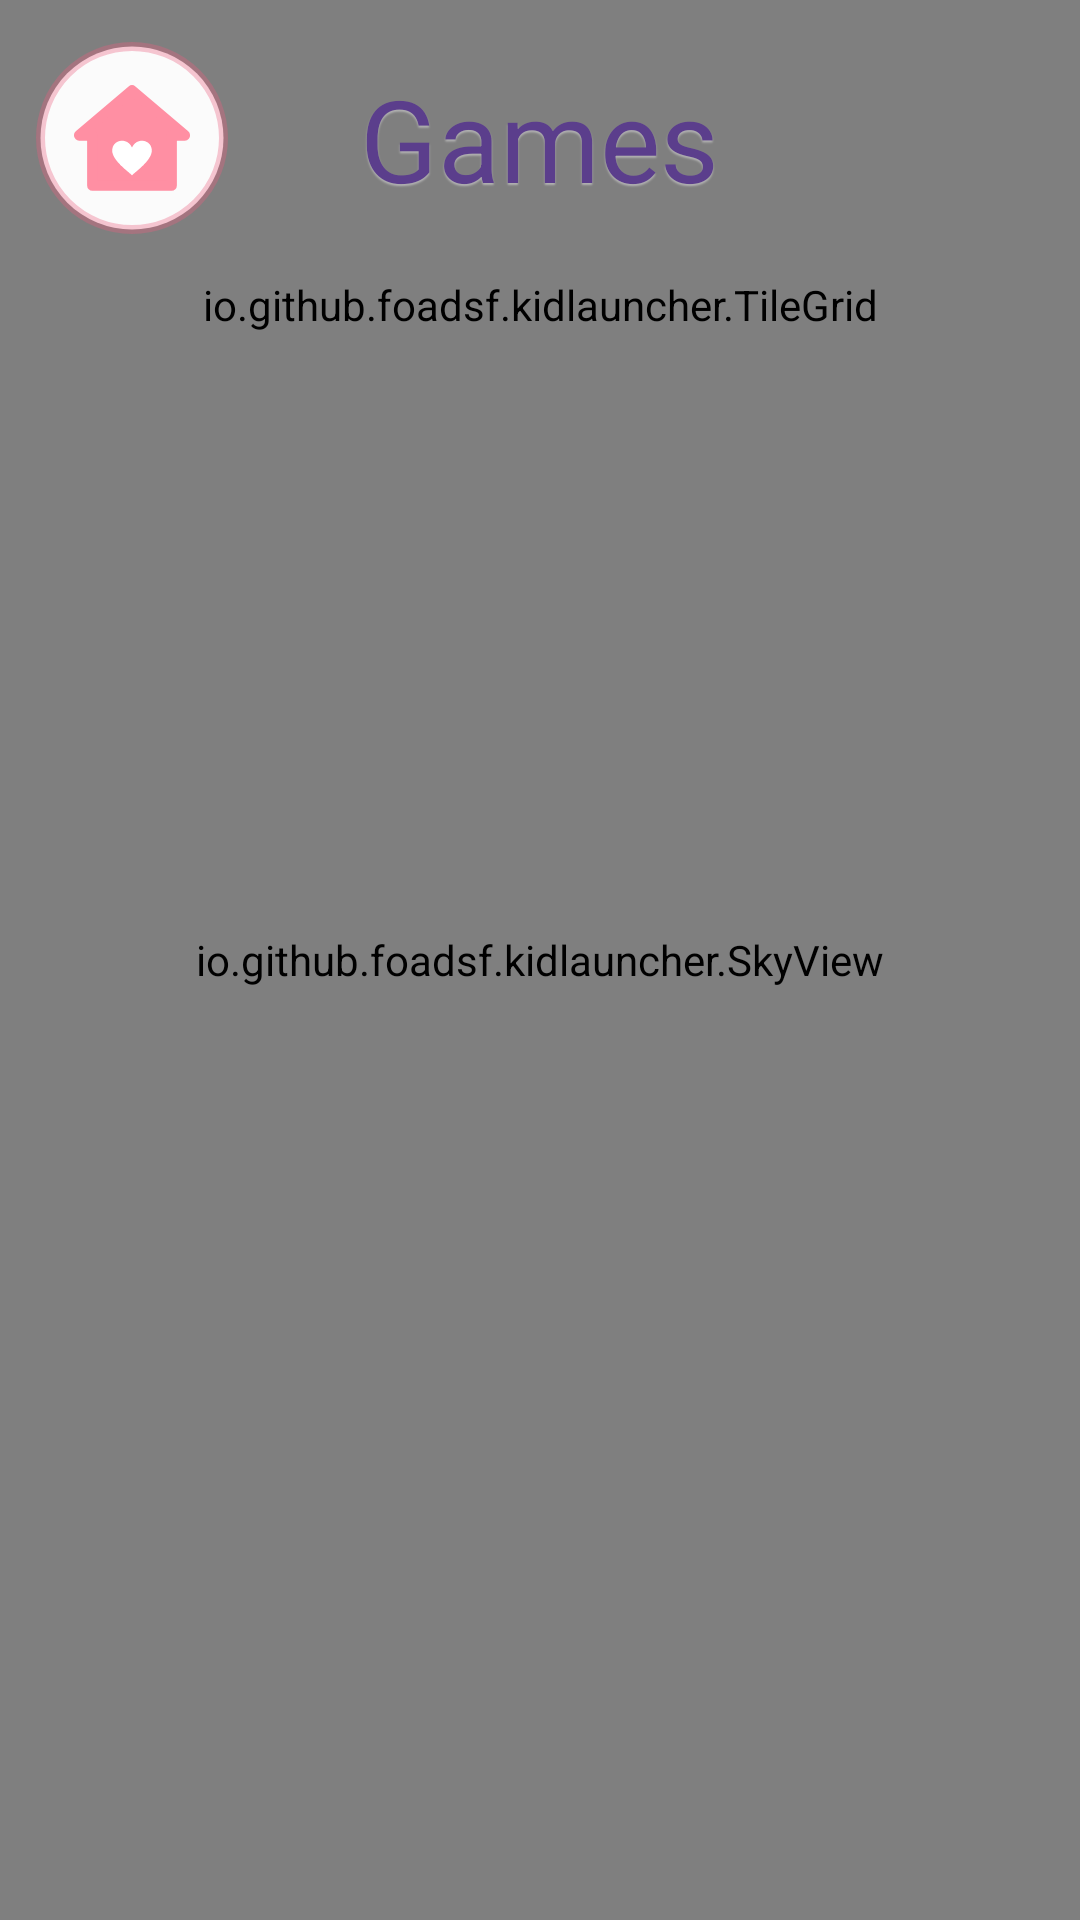

Icon click points for this 1080px×1920px phone screenshot, format (x,y):
Home: (132,138)
